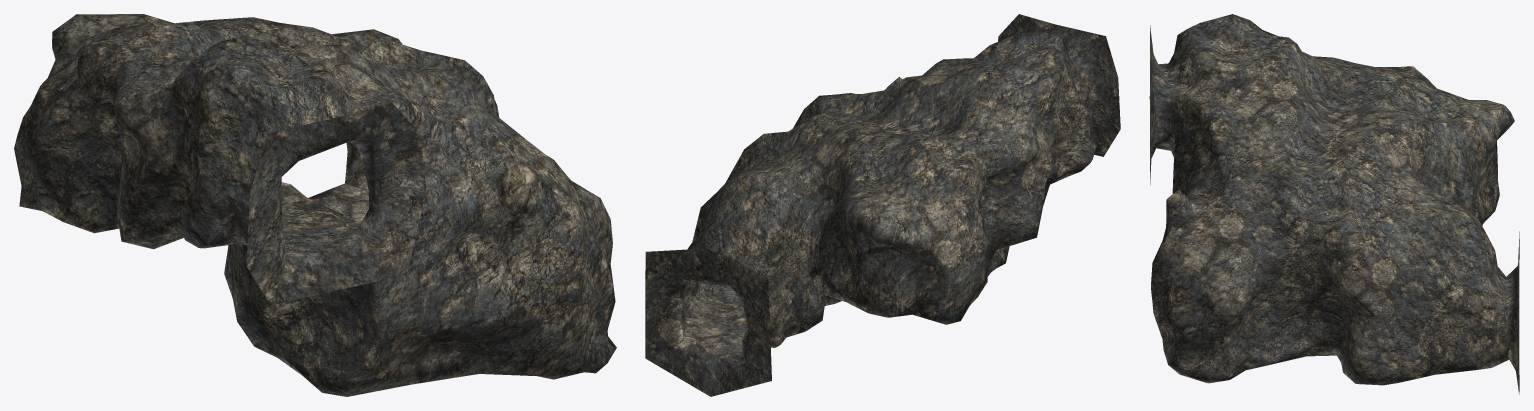
File: Module12.fbx
3 renders of one model, left to right at view 1: azimuth 30°, elevation 25°; view 2: azimuth 150°, elevation 25°; view 3: azimuth 270°, elevation 25°, orthographic. The views are drawn at different scales.
Parts seen in each view (by area): view 1: cave_el12_1900_Group65316; view 2: cave_el12_1900_Group65316; view 3: cave_el12_1900_Group65316.
Boxes of the visible parts, box(x1,y1,x2,y2) form: cave_el12_1900_Group65316: box(14, 14, 616, 396); cave_el12_1900_Group65316: box(645, 14, 1120, 396); cave_el12_1900_Group65316: box(1149, 14, 1519, 394).
Size of the model in its own units: 19.22 by 17.06 by 20.35.
